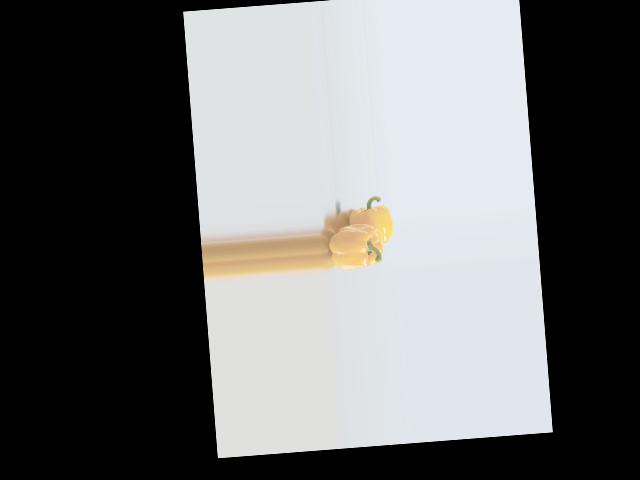bell_pepper: (339, 195, 395, 248)
